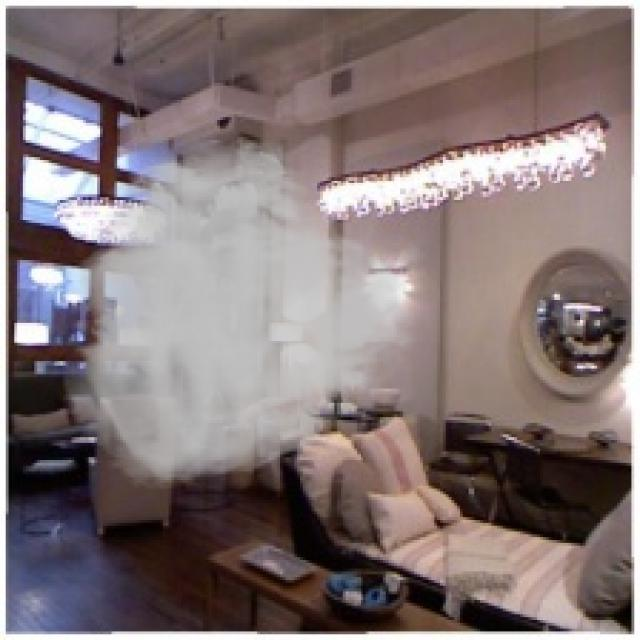smoke: (60, 134, 429, 492)
